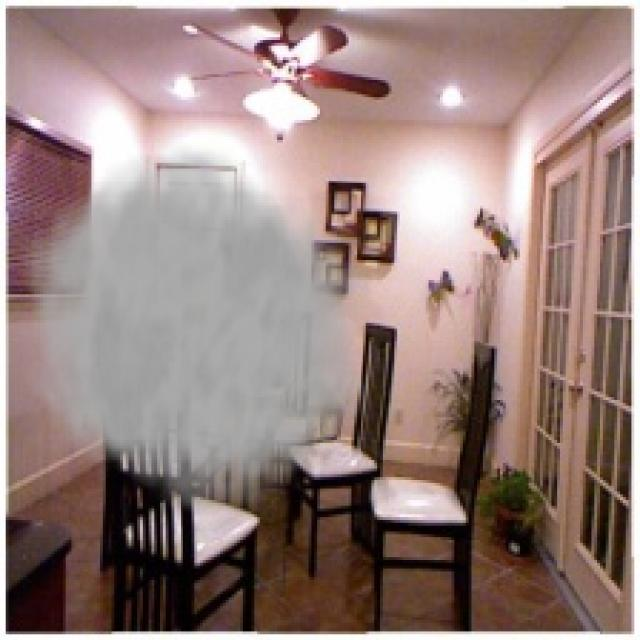smoke: (9, 134, 368, 532)
